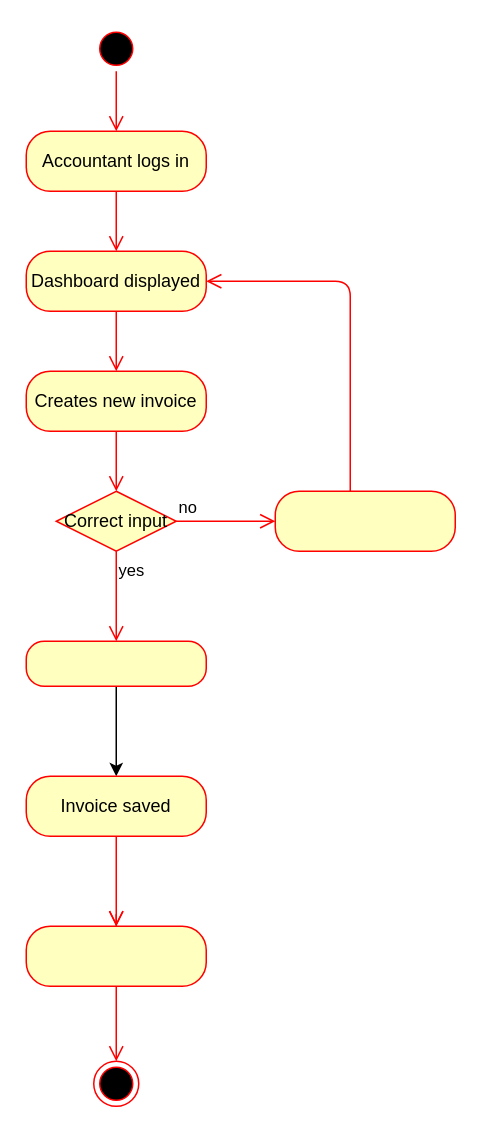
The diagram is 482 pixels wide and 1133 high, and some of its shapes have lost their labels. Here are the shapes that lost their labels. From the top down, the centre of each, then its label:
At pixel 364 520: "Show error".
At pixel 115 663: "Invoice created".
At pixel 115 955: "Accountant dashboard".
